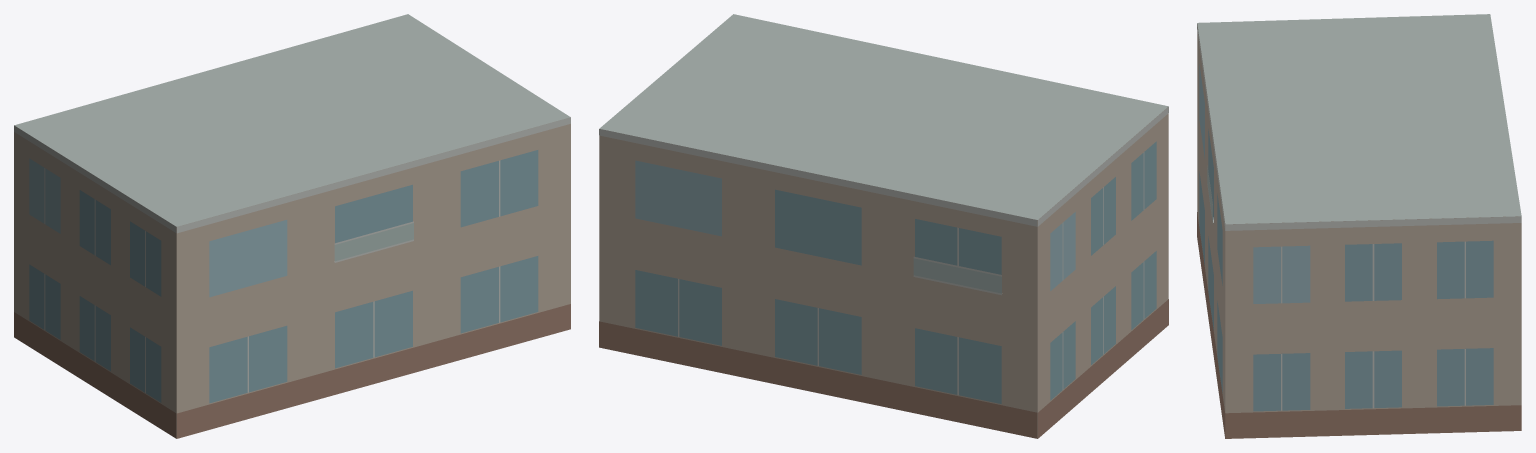
The model's file is survey-upis-32983102.glb.
3 views of the same model, side by side, from view 1: azimuth 30°, elevation 25°; view 2: azimuth 150°, elevation 25°; view 3: azimuth 270°, elevation 25° (orthographic). The views are drawn at different scales.
Visible parts, largest first — view 1: survey-upis-32983102.tmp; view 2: survey-upis-32983102.tmp; view 3: survey-upis-32983102.tmp.
Boxes of the visible parts, x1=… form: survey-upis-32983102.tmp: x1=14, y1=14, x2=570, y2=438; survey-upis-32983102.tmp: x1=599, y1=14, x2=1168, y2=438; survey-upis-32983102.tmp: x1=1197, y1=14, x2=1521, y2=438.
Bounding box in the file's own units: 16.62 × 7.9 × 10.84.
